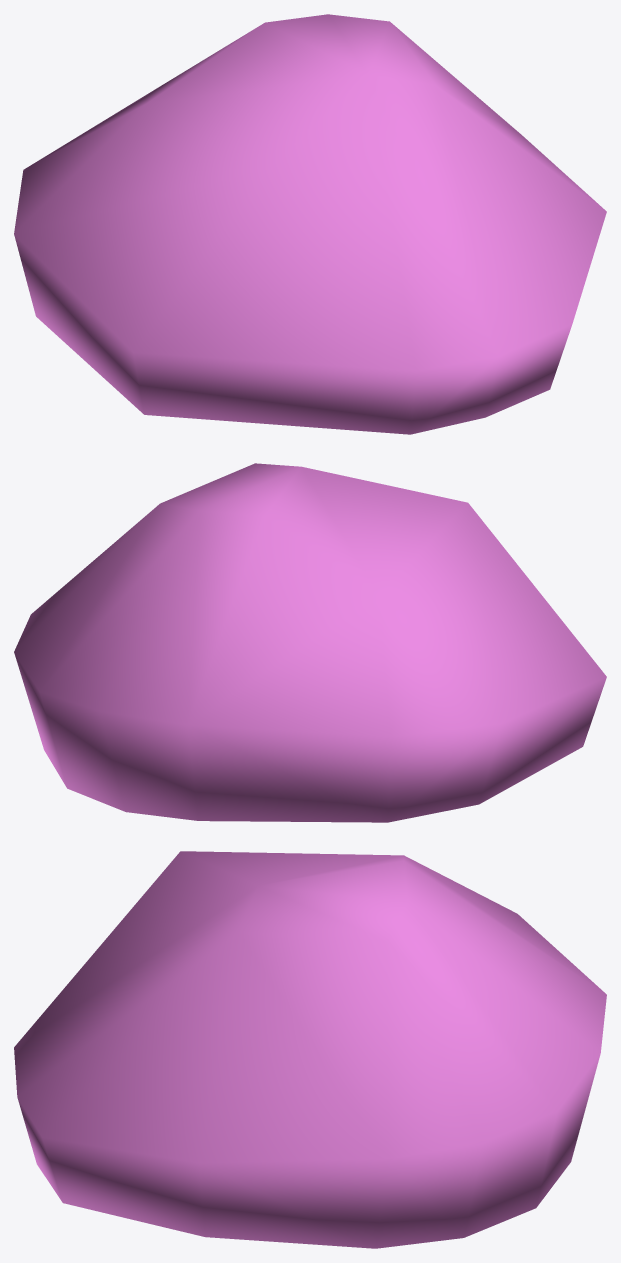
File: prop_rock_small_04.fbx
3 views of the same model, one above another, from view 1: azimuth 30°, elevation 25°; view 2: azimuth 150°, elevation 25°; view 3: azimuth 270°, elevation 25° (orthographic). The views are drawn at different scales.
Parts seen in each view (by area): view 1: RockSmall4_low; view 2: RockSmall4_low; view 3: RockSmall4_low.
Part boxes in pixels (<box>): RockSmall4_low: <box>14,14,606,434</box>; RockSmall4_low: <box>14,463,606,822</box>; RockSmall4_low: <box>14,851,606,1248</box>.
Size of the model in its own units: 2.95 by 1.56 by 2.96.
